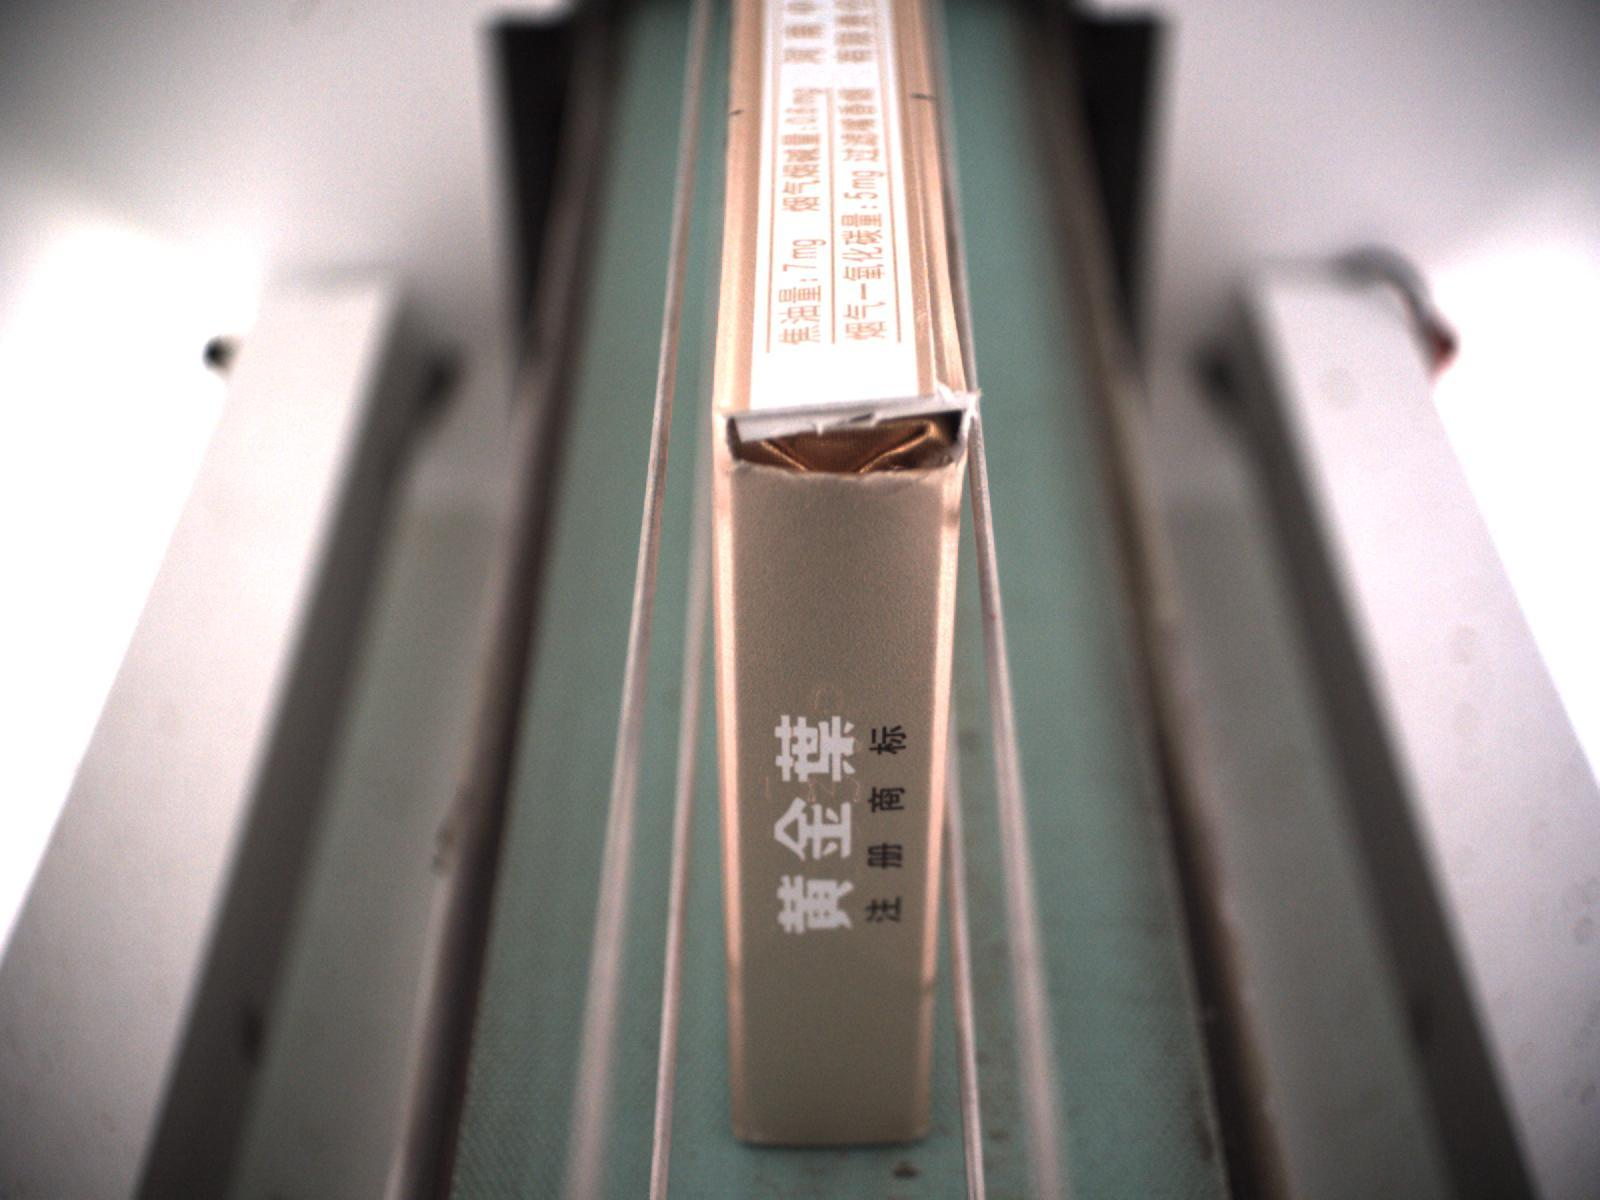cornerBreak: (711, 379, 979, 493)
